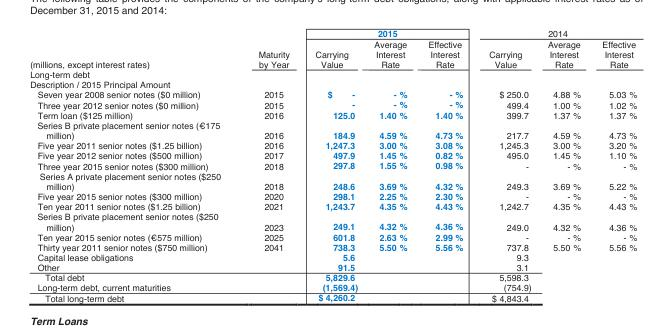table: (29, 29, 636, 302)
table column: (29, 29, 238, 302), (301, 29, 365, 302), (238, 29, 301, 302), (475, 29, 538, 302), (416, 29, 475, 302), (538, 29, 590, 302), (365, 29, 416, 302), (590, 29, 636, 302)
table column header: (29, 29, 636, 69)
table projected row header: (29, 69, 636, 79), (29, 79, 636, 89)
table row: (29, 39, 636, 69), (29, 211, 636, 232), (29, 120, 636, 140), (29, 171, 636, 191), (29, 89, 636, 100), (29, 160, 636, 171), (29, 282, 636, 293), (29, 29, 636, 39), (29, 69, 636, 79), (29, 79, 636, 89), (29, 100, 636, 110), (29, 110, 636, 120), (29, 140, 636, 150), (29, 150, 636, 160), (29, 191, 636, 201), (29, 201, 636, 211), (29, 232, 636, 242), (29, 242, 636, 252), (29, 252, 636, 262), (29, 262, 636, 272), (29, 272, 636, 282), (29, 293, 636, 302)
table spanning cell: (29, 29, 238, 69), (238, 29, 301, 69), (475, 29, 538, 69), (538, 29, 590, 69), (590, 29, 636, 69), (301, 29, 475, 39)
